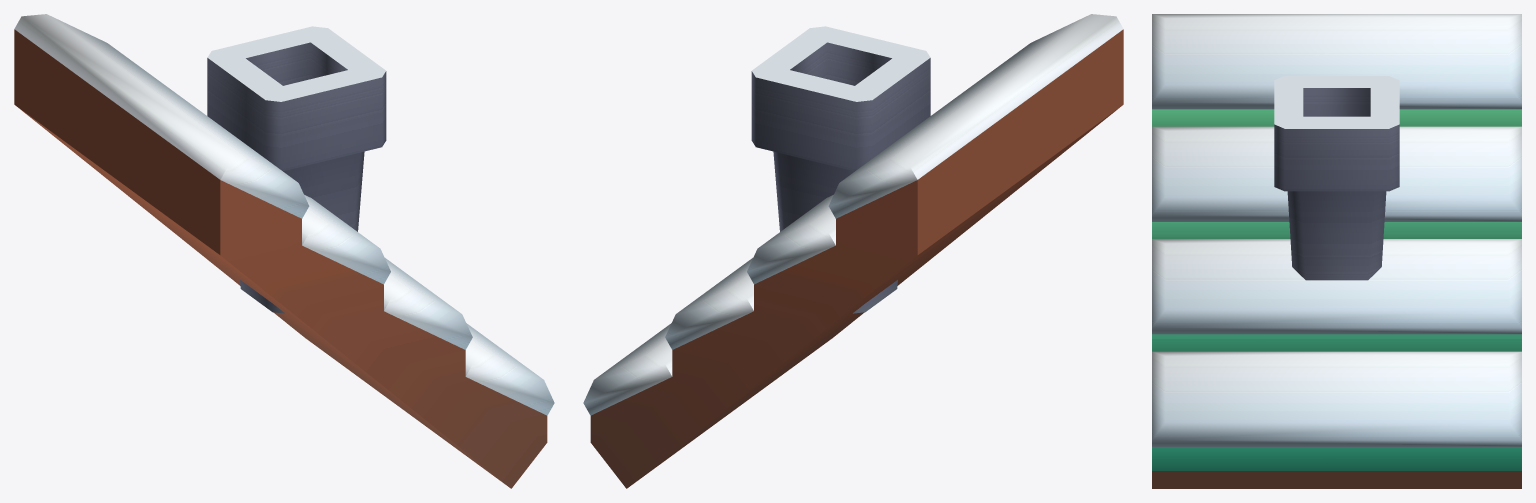
The model's file is cabin-roof-snow-chimney.glb.
3 views of the same model, side by side, from view 1: azimuth 30°, elevation 25°; view 2: azimuth 150°, elevation 25°; view 3: azimuth 270°, elevation 25° (orthographic). The views are drawn at different scales.
Parts seen in each view (by area): view 1: cabin-roof-snow-chimney; view 2: cabin-roof-snow-chimney; view 3: cabin-roof-snow-chimney.
Boxes of the visible parts, x1,y1,x2,y2 form: cabin-roof-snow-chimney: (14, 14, 554, 488); cabin-roof-snow-chimney: (583, 14, 1123, 488); cabin-roof-snow-chimney: (1152, 14, 1521, 488).
Size of the model in its own units: 1.31 by 1.48 by 1.4.
1 material, 1 textured.
